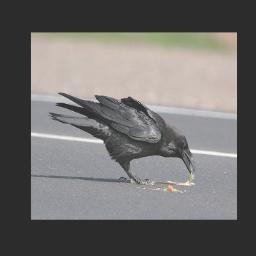Crow: (48, 92, 195, 185)
